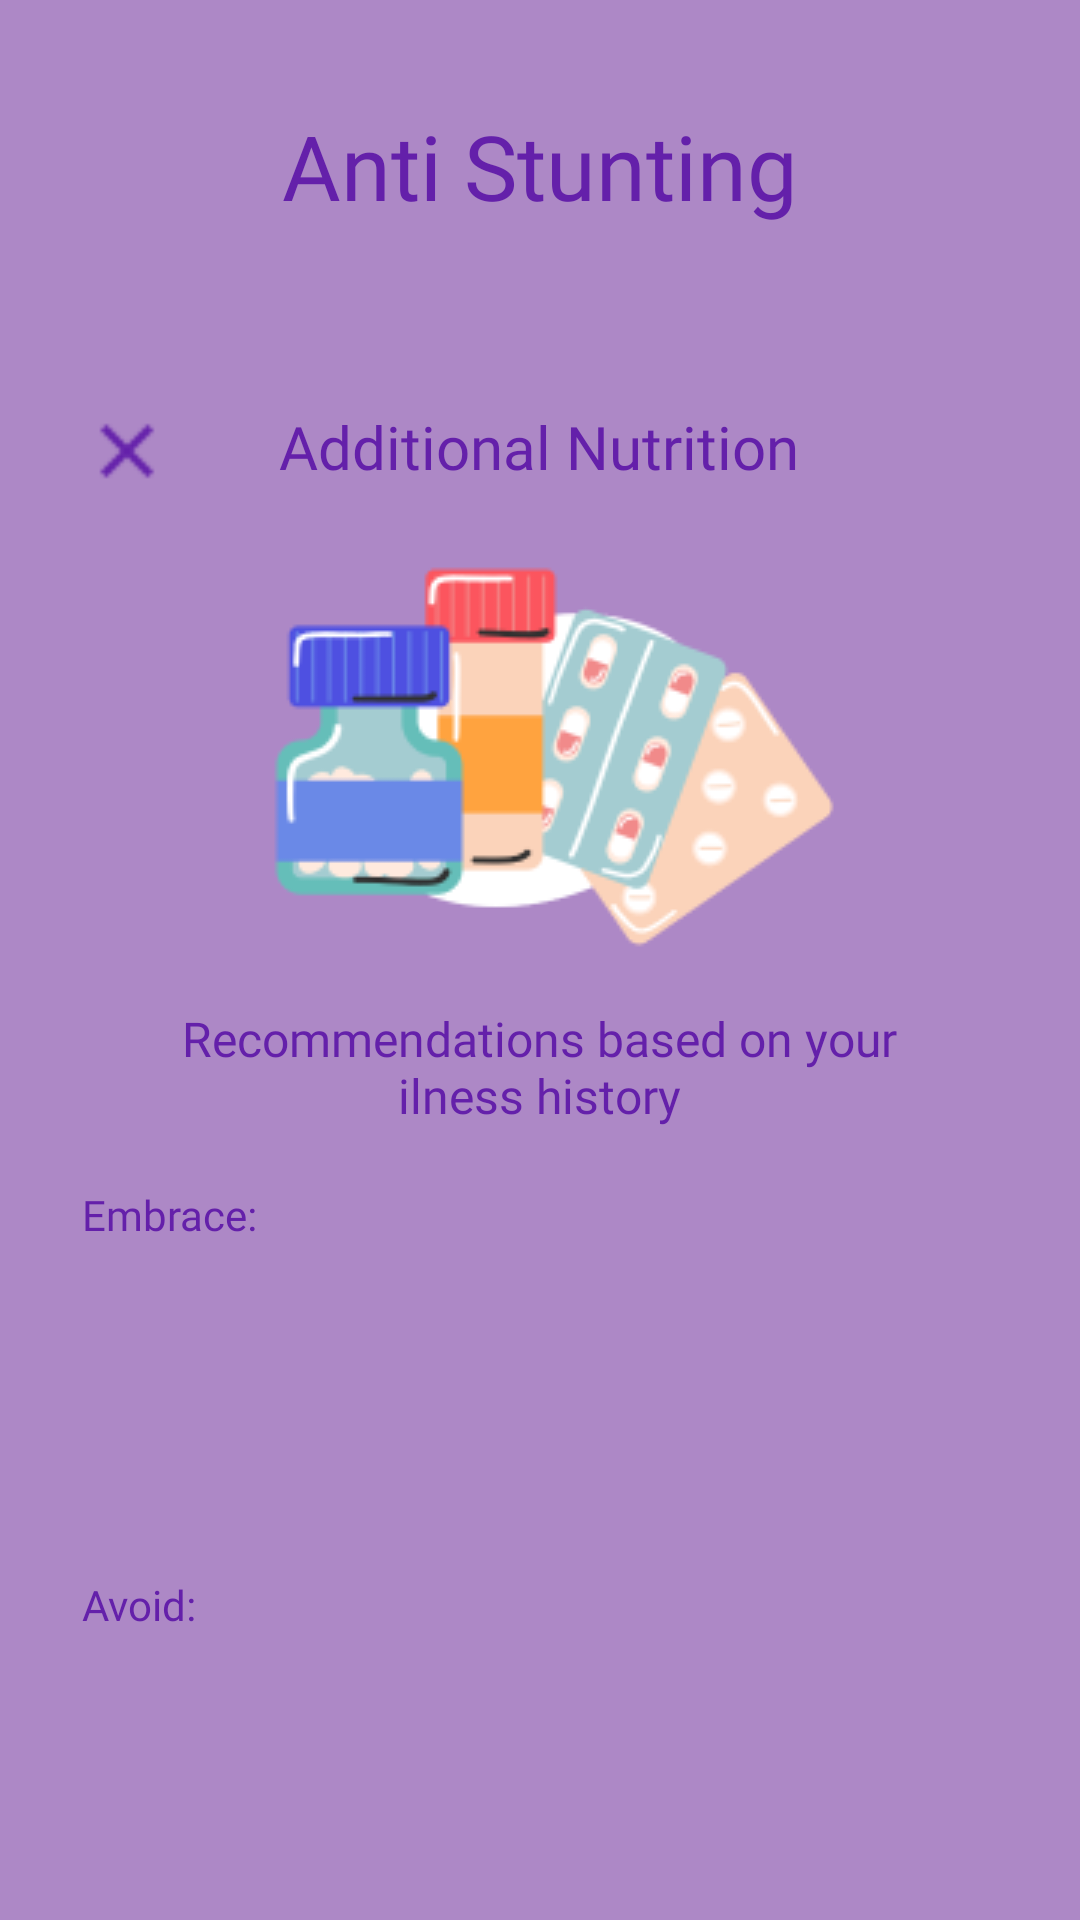

Locate icon controls on the screen. Image size 1080 x 1920, boxes as (x1, y1, x2, y2).
close: (100, 424, 154, 478)
